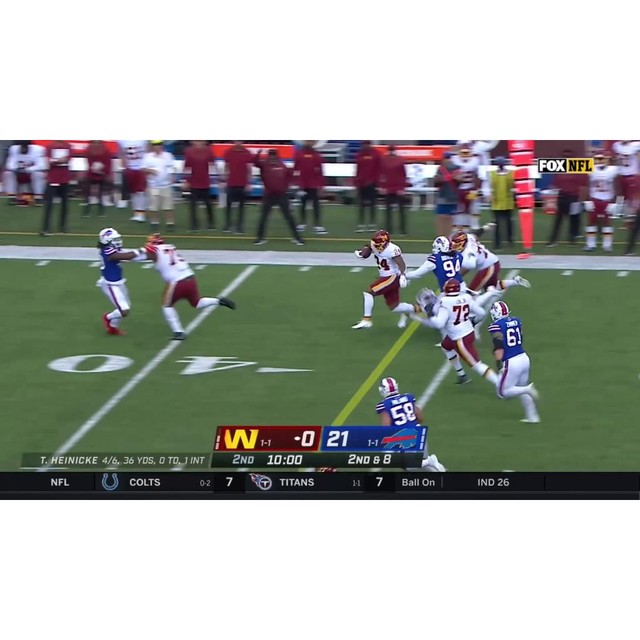american-football-player: (142, 231, 236, 338), (484, 301, 542, 424), (374, 375, 447, 471), (432, 279, 495, 388), (353, 231, 420, 329), (91, 227, 146, 337), (452, 229, 527, 307), (407, 234, 463, 297)
